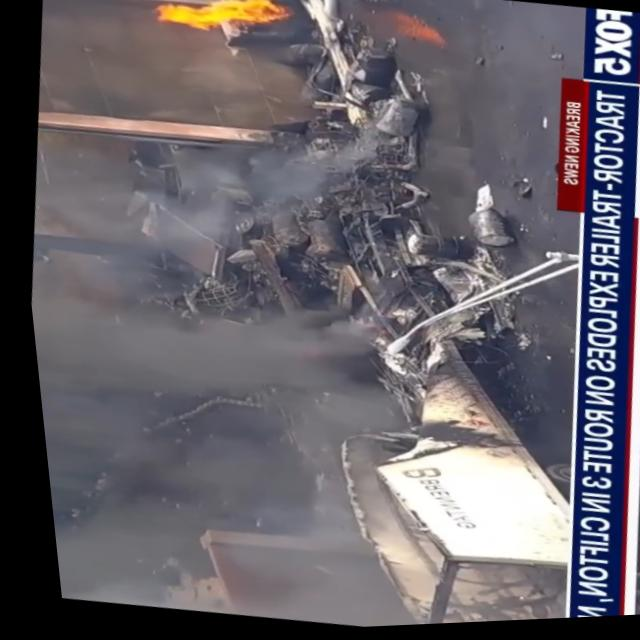Fire: (145, 0, 294, 51)
